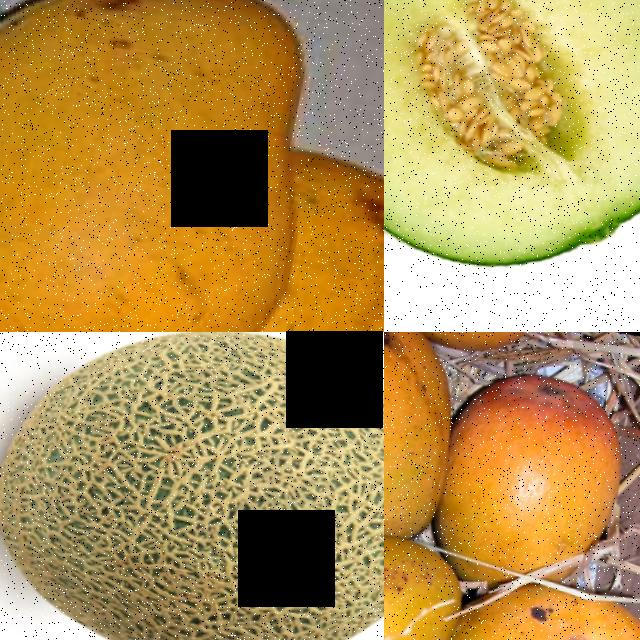mango: (0, 0, 351, 332), (431, 355, 639, 569), (384, 352, 464, 540), (443, 565, 640, 640)
melon: (0, 332, 384, 640), (384, 0, 640, 295)
